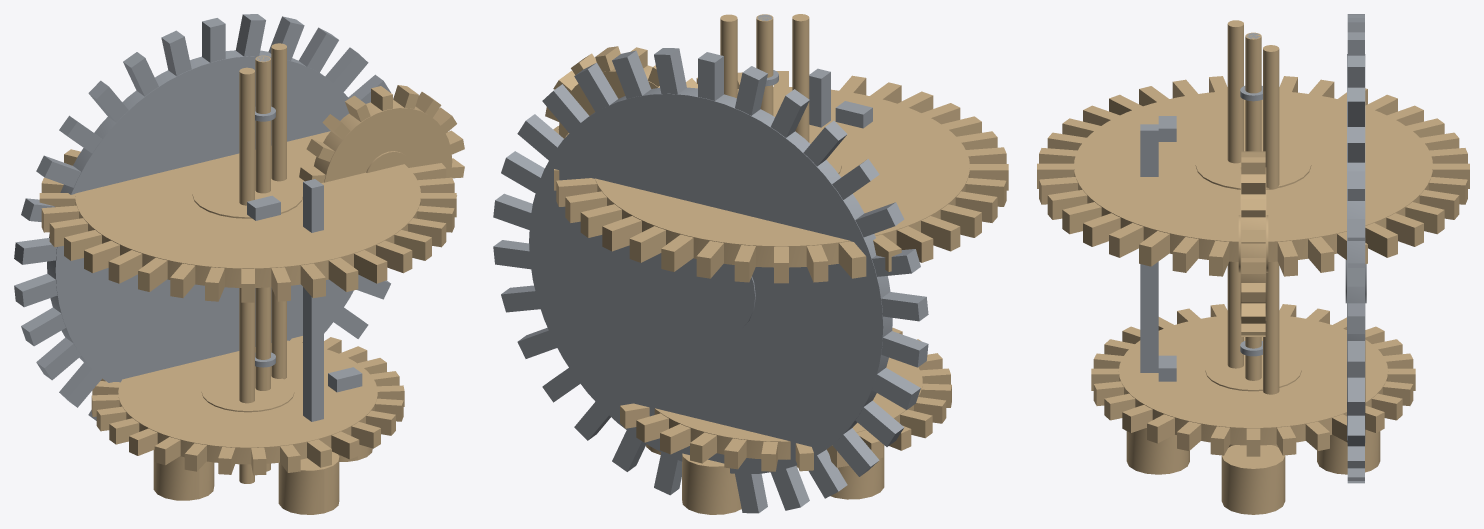
Rendered from world02-engine.glb.
3 renders of one model, left to right at view 1: azimuth 30°, elevation 25°; view 2: azimuth 150°, elevation 25°; view 3: azimuth 270°, elevation 25°, orthographic. The views are drawn at different scales.
Parts seen in each view (by area): view 1: SM_Engine_GearTrain, SM_Engine_Escapement, SM_Engine_HydraulicPipes, SM_Engine_TorsionPendulum; view 2: SM_Engine_Escapement, SM_Engine_GearTrain, SM_Engine_HydraulicPipes, SM_Engine_TorsionPendulum; view 3: SM_Engine_GearTrain, SM_Engine_Escapement, SM_Engine_HydraulicPipes, SM_Engine_TorsionPendulum, SM_Engine_DriveShaft.
Boxes of the visible parts, bbox=[...] form: SM_Engine_GearTrain: bbox=[39, 85, 464, 475]; SM_Engine_Escapement: bbox=[14, 14, 390, 421]; SM_Engine_HydraulicPipes: bbox=[239, 43, 286, 483]; SM_Engine_TorsionPendulum: bbox=[153, 58, 372, 514]; SM_Engine_Escapement: bbox=[493, 48, 928, 513]; SM_Engine_GearTrain: bbox=[545, 46, 1008, 471]; SM_Engine_HydraulicPipes: bbox=[720, 14, 809, 467]; SM_Engine_TorsionPendulum: bbox=[646, 17, 884, 514]; SM_Engine_GearTrain: bbox=[1037, 76, 1469, 456]; SM_Engine_Escapement: bbox=[1140, 14, 1366, 483]; SM_Engine_HydraulicPipes: bbox=[1227, 20, 1279, 447]; SM_Engine_TorsionPendulum: bbox=[1126, 428, 1380, 514]; SM_Engine_DriveShaft: bbox=[1240, 33, 1262, 356].
Bounding box in the file's own units: 2 × 2 × 1.85.
